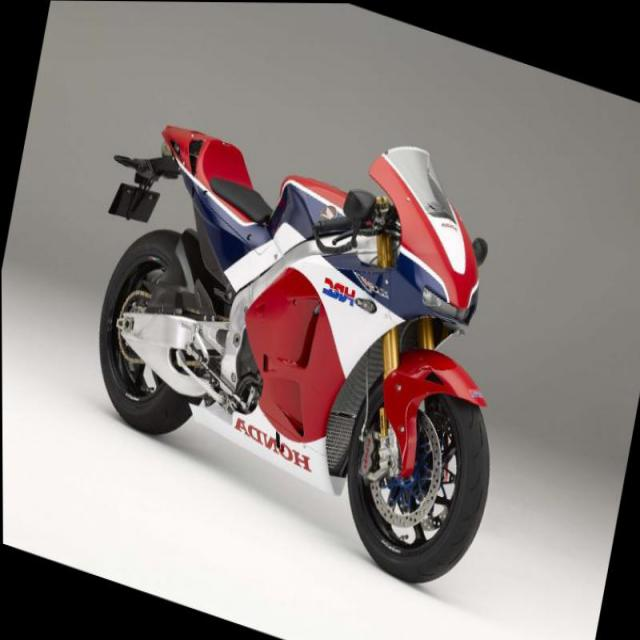HRC RCV 213: (68, 50, 546, 605)
